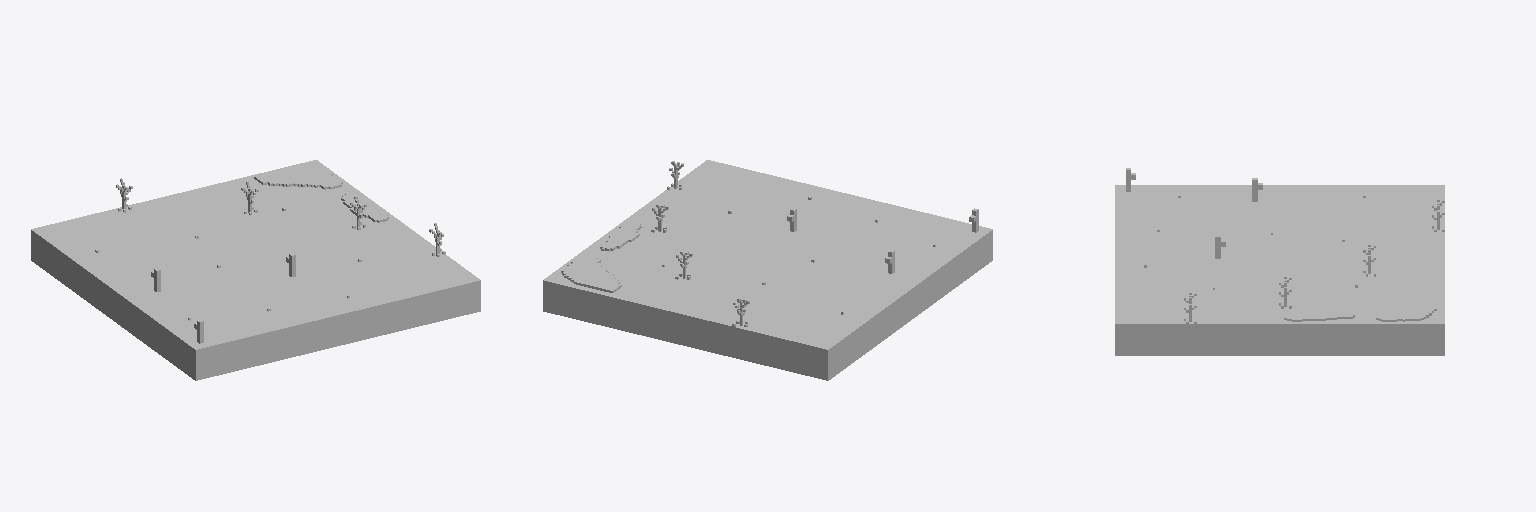
File: Map (29).obj
The picture shows the model from 3 angles: view 1: azimuth 30°, elevation 25°; view 2: azimuth 150°, elevation 25°; view 3: azimuth 270°, elevation 25°; orthographic projection.
Parts seen in each view (by area): view 1: ALL MAP!!!!!!!!!!!-26; view 2: ALL MAP!!!!!!!!!!!-26; view 3: ALL MAP!!!!!!!!!!!-26.
Part boxes in pixels (x1,y1,x2,y2): ALL MAP!!!!!!!!!!!-26: (31, 160, 480, 380); ALL MAP!!!!!!!!!!!-26: (543, 160, 992, 380); ALL MAP!!!!!!!!!!!-26: (1115, 168, 1444, 355).
Bounding box in the file's own units: 125 × 25 × 125.